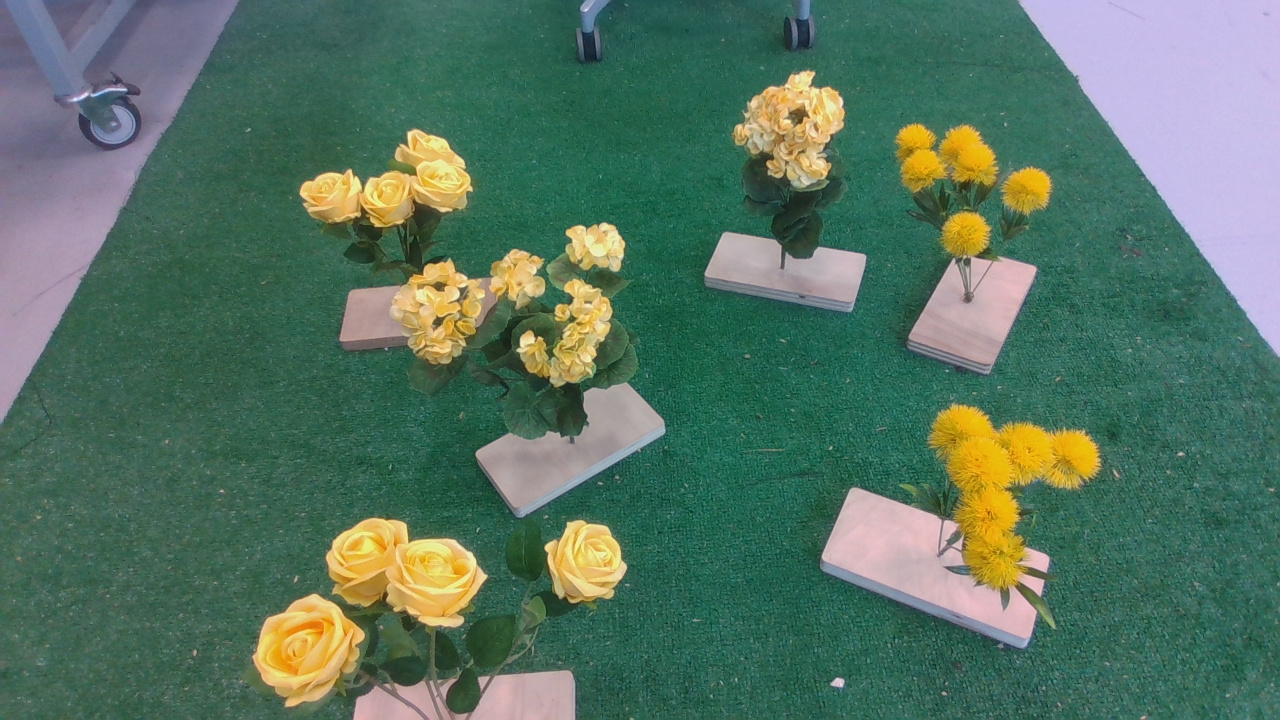dandelion: (906, 404, 1107, 634), (892, 119, 1059, 287)
geranium: (393, 227, 645, 448), (732, 69, 861, 268)
rose: (239, 504, 643, 720), (302, 128, 481, 254)
